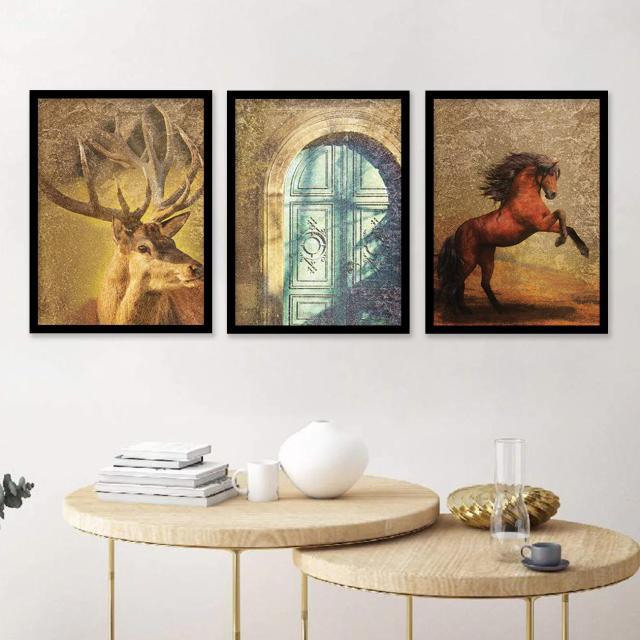painting: (29, 89, 212, 334), (227, 90, 410, 335), (426, 90, 609, 335)
